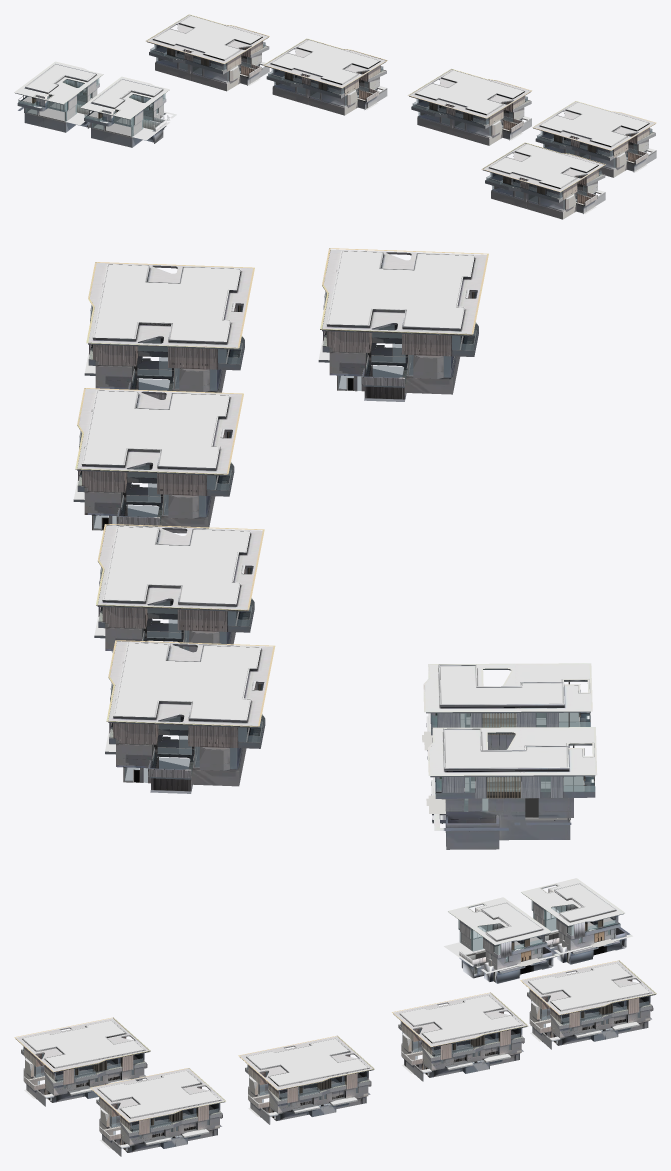
File: Elie Saab_build_6.glb
3 views of the same model, one above another, from view 1: azimuth 30°, elevation 25°; view 2: azimuth 150°, elevation 25°; view 3: azimuth 270°, elevation 25° (orthographic). The views are drawn at different scales.
Parts seen in each view (by area): view 1: Elie Saab_build.006; view 2: Elie Saab_build.006; view 3: Elie Saab_build.006.
Boxes of the visible parts, x1,y1,x2,y2 form: Elie Saab_build.006: [14, 14, 656, 219]; Elie Saab_build.006: [73, 248, 597, 849]; Elie Saab_build.006: [14, 878, 656, 1156].
Bounding box in the file's own units: 142 × 13.72 × 155.
Materials: 11 (7 with a texture image).
